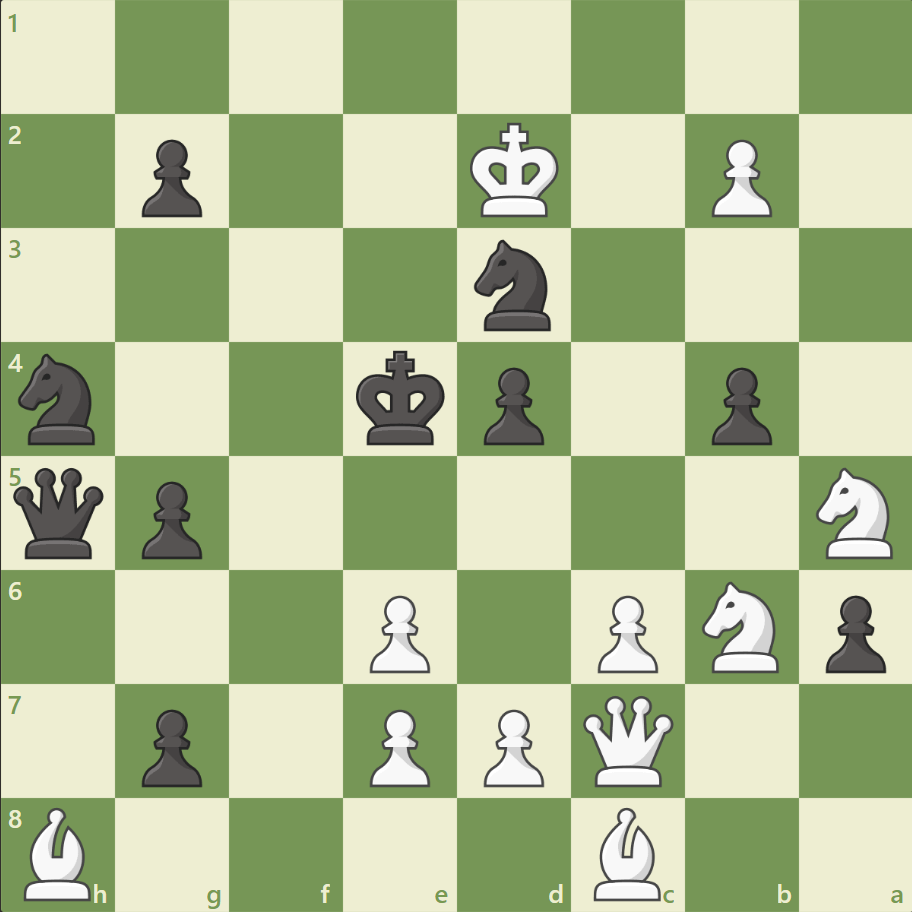B: (585, 801, 669, 904), (17, 801, 101, 904)
K: (465, 117, 565, 225)
N: (806, 461, 903, 564), (692, 575, 789, 677)
P: (474, 700, 549, 791), (701, 132, 776, 223), (361, 700, 435, 791), (588, 586, 662, 677), (361, 586, 435, 677)
Q: (578, 690, 677, 789)
k: (351, 344, 451, 452)
n: (465, 234, 562, 337), (11, 348, 108, 450)
p: (133, 700, 208, 791), (133, 473, 208, 564), (701, 359, 776, 450), (474, 359, 549, 450), (133, 132, 208, 223), (815, 586, 889, 677)
q: (10, 463, 109, 562)
